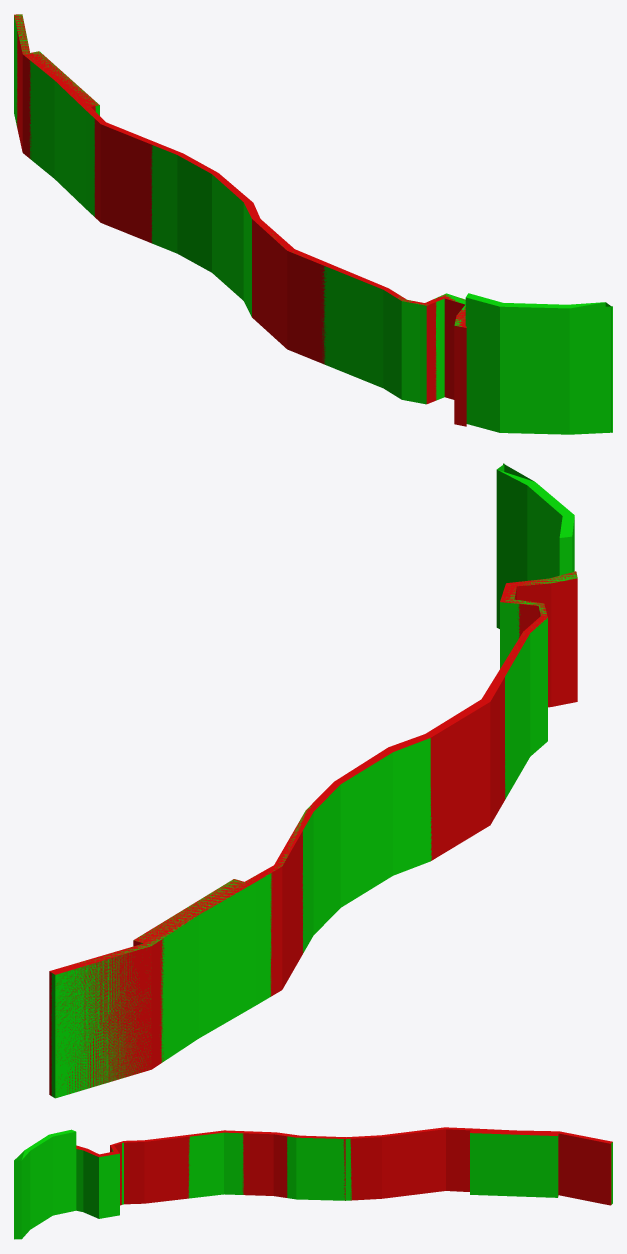
Rendered from InvisibleWall_014.fbx.
3 renders of one model, top to bottom at view 1: azimuth 30°, elevation 25°; view 2: azimuth 150°, elevation 25°; view 3: azimuth 270°, elevation 25°, orthographic. The views are drawn at different scales.
Visible parts, largest first — view 1: Designer197, InvisibleWall_014_Phys, Designer132; view 2: Designer197, InvisibleWall_014_Phys, Designer132; view 3: InvisibleWall_014_Phys, Designer197, Designer132.
Boxes of the visible parts, x1,y1,x2,y2 form: Designer197: [14, 14, 465, 404]; InvisibleWall_014_Phys: [14, 14, 466, 426]; Designer132: [465, 293, 612, 434]; Designer197: [51, 572, 577, 1098]; InvisibleWall_014_Phys: [49, 571, 577, 1096]; Designer132: [496, 463, 574, 628]; InvisibleWall_014_Phys: [76, 1127, 612, 1205]; Designer197: [76, 1132, 612, 1218]; Designer132: [14, 1129, 76, 1239].
Bounding box in the file's own units: 1948 × 1414 × 9613.
